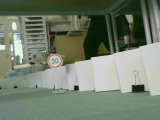speed_30: (45, 52, 63, 69)
